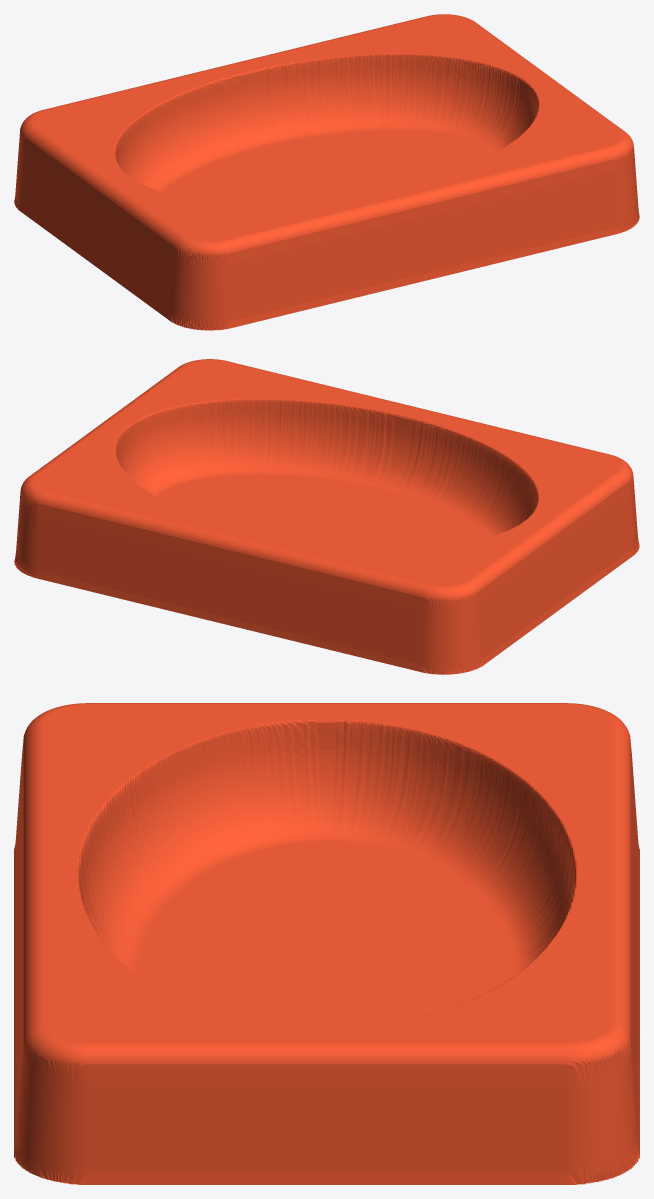
File: mold.glb
The picture shows the model from 3 angles, top to bottom: view 1: azimuth 30°, elevation 25°; view 2: azimuth 150°, elevation 25°; view 3: azimuth 270°, elevation 25°; orthographic projection. The views are drawn at different scales.
Visible parts, largest first — view 1: geometry_0; view 2: geometry_0; view 3: geometry_0.
Boxes of the visible parts, <box> form: geometry_0: <box>14,14,639,330</box>; geometry_0: <box>14,359,639,674</box>; geometry_0: <box>14,703,639,1184</box>.
Size of the model in its own units: 0.105 by 0.0175 by 0.0766.
